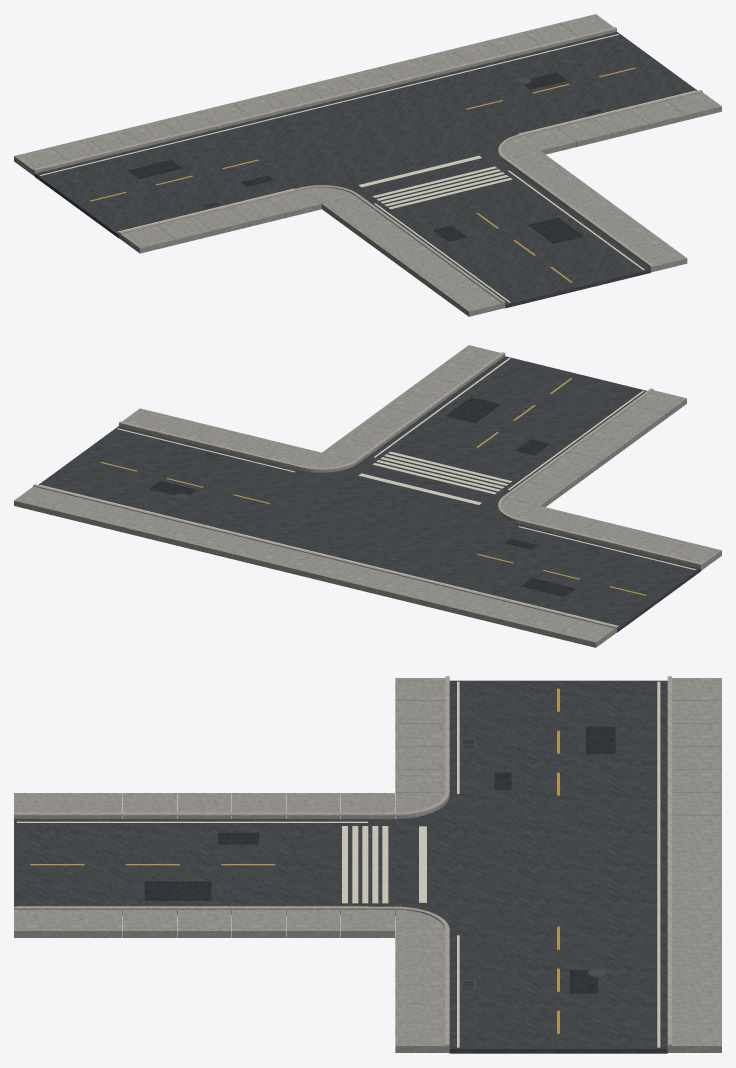
The model's file is PROJECT_Z_Road_T_Junction.glb.
3 views of the same model, one above another, from view 1: azimuth 30°, elevation 25°; view 2: azimuth 150°, elevation 25°; view 3: azimuth 270°, elevation 25° (orthographic). The views are drawn at different scales.
Parts seen in each view (by area): view 1: SM_ROAD_04_StemSouth_8x16m, SM_ROAD_01_ThroughWest_12x8m, SM_ROAD_03_ThroughEast_12x8m, SM_ROAD_02_JunctionCore_8x8m, SM_KERB_Main_North_32m, SM_MARK_Edge_MainNorth, SM_WALK_SouthWest_Panel_01, SM_WALK_StemWest_Panel_01, SM_WALK_StemEast_Panel_01, SM_WALK_SouthWest_Panel_02, SM_WALK_SouthWest_Panel_05, SM_WALK_SouthEast_Panel_04 (+42 smaller); view 2: SM_ROAD_04_StemSouth_8x16m, SM_ROAD_01_ThroughWest_12x8m, SM_ROAD_03_ThroughEast_12x8m, SM_ROAD_02_JunctionCore_8x8m, SM_KERB_Main_North_32m, SM_WALK_NorthMain_Panel_01, SM_WALK_NorthMain_Panel_04, SM_WALK_NorthMain_Panel_07, SM_WALK_NorthMain_Panel_13, SM_WALK_NorthMain_Panel_14, SM_WALK_NorthMain_Panel_15, SM_WALK_NorthMain_Panel_02 (+42 smaller); view 3: SM_ROAD_04_StemSouth_8x16m, SM_ROAD_03_ThroughEast_12x8m, SM_ROAD_01_ThroughWest_12x8m, SM_ROAD_02_JunctionCore_8x8m, SM_KERB_Main_North_32m, SM_WALK_SouthEast_Panel_05, SM_WALK_StemEast_Panel_01, SM_WALK_StemEast_Panel_02, SM_WALK_StemEast_Panel_04, SM_WALK_StemEast_Panel_06, SM_WALK_StemEast_Panel_07, SM_WALK_NorthMain_Panel_16 (+43 smaller).
Boxes of the visible parts, <box> form: SM_ROAD_04_StemSouth_8x16m: <box>338,146,650,308</box>; SM_ROAD_01_ThroughWest_12x8m: <box>35,120,336,238</box>; SM_ROAD_03_ThroughEast_12x8m: <box>399,32,697,146</box>; SM_ROAD_02_JunctionCore_8x8m: <box>253,85,482,181</box>; SM_KERB_Main_North_32m: <box>33,27,616,171</box>; SM_MARK_Edge_MainNorth: <box>40,34,618,175</box>; SM_WALK_SouthWest_Panel_01: <box>119,225,176,253</box>; SM_WALK_StemWest_Panel_01: <box>448,288,505,316</box>; SM_WALK_StemEast_Panel_01: <box>630,243,687,272</box>; SM_WALK_SouthWest_Panel_02: <box>157,216,212,244</box>; SM_WALK_SouthWest_Panel_05: <box>266,190,321,217</box>; SM_WALK_SouthEast_Panel_04: <box>630,101,685,129</box>; SM_ROAD_04_StemSouth_8x16m: <box>337,356,646,514</box>; SM_ROAD_01_ThroughWest_12x8m: <box>403,515,700,632</box>; SM_ROAD_03_ThroughEast_12x8m: <box>38,426,336,537</box>; SM_ROAD_02_JunctionCore_8x8m: <box>257,479,482,572</box>; SM_KERB_Main_North_32m: <box>33,484,616,628</box>; SM_WALK_NorthMain_Panel_01: <box>559,619,616,647</box>; SM_WALK_NorthMain_Panel_04: <box>450,593,505,621</box>; SM_WALK_NorthMain_Panel_07: <box>341,566,396,594</box>; SM_WALK_NorthMain_Panel_13: <box>123,513,178,541</box>; SM_WALK_NorthMain_Panel_14: <box>86,504,141,532</box>; SM_WALK_NorthMain_Panel_15: <box>50,495,105,523</box>; SM_WALK_NorthMain_Panel_02: <box>523,611,578,638</box>; SM_ROAD_04_StemSouth_8x16m: <box>14,819,449,914</box>; SM_ROAD_03_ThroughEast_12x8m: <box>449,911,667,1053</box>; SM_ROAD_01_ThroughWest_12x8m: <box>449,680,667,818</box>; SM_ROAD_02_JunctionCore_8x8m: <box>449,819,667,910</box>; SM_KERB_Main_North_32m: <box>667,676,671,1045</box>; SM_WALK_SouthEast_Panel_05: <box>395,1023,449,1052</box>; SM_WALK_StemEast_Panel_01: <box>14,910,68,937</box>; SM_WALK_StemEast_Panel_02: <box>68,910,122,937</box>; SM_WALK_StemEast_Panel_04: <box>177,910,231,937</box>; SM_WALK_StemEast_Panel_06: <box>286,910,340,937</box>; SM_WALK_StemEast_Panel_07: <box>340,910,394,937</box>; SM_WALK_NorthMain_Panel_16: <box>667,1023,721,1052</box>.
Size of the model in its own units: 32 by 0.355 by 26.
8 materials, 8 textured.
